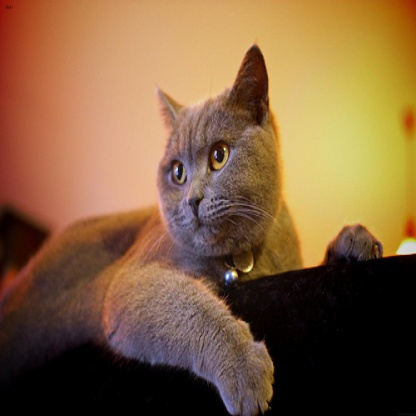british_shorthair: (1, 45, 382, 413)
